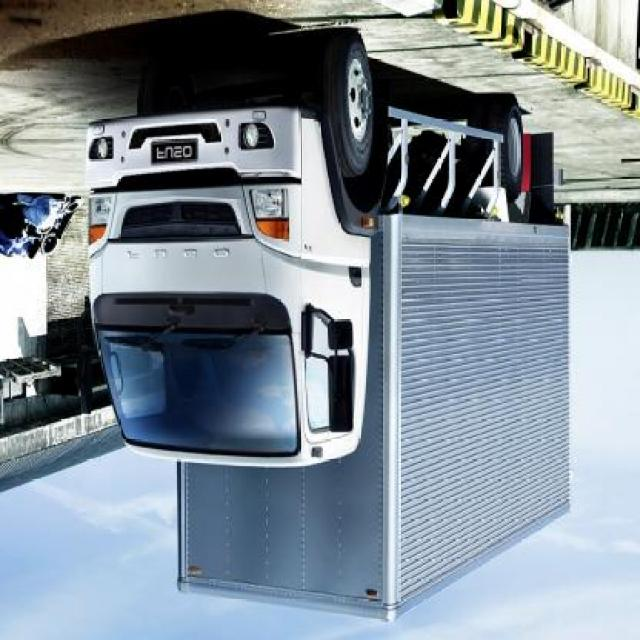truck: (80, 32, 571, 630)
